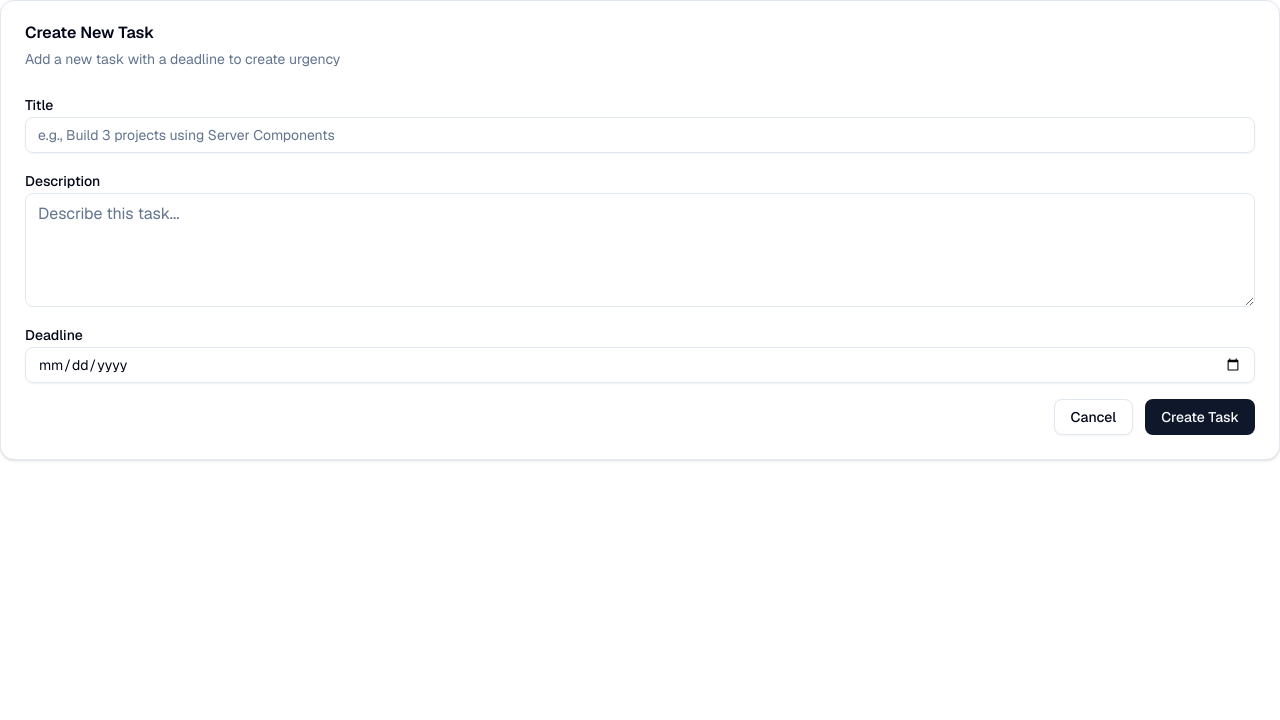
Test: TaskForm › Create mode › should display error when action fails
Type "Task" into the field labelled "Title" at (640, 135), box [25,117,1255,153]
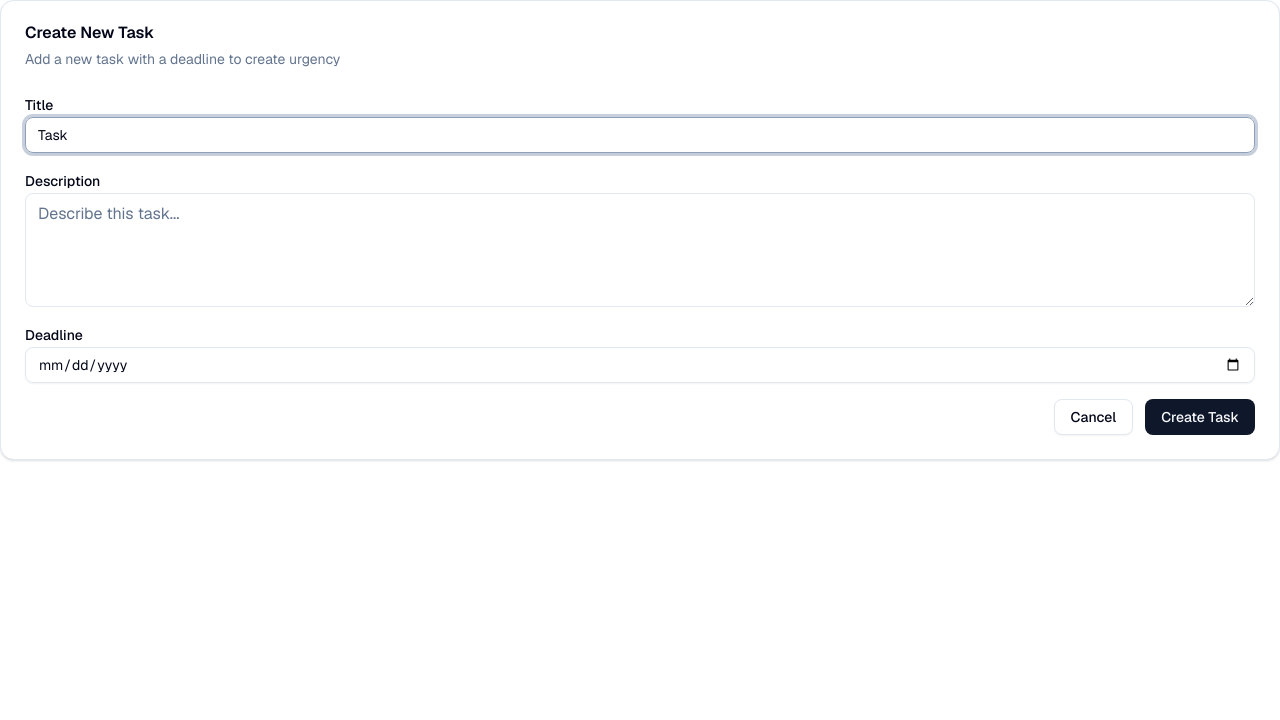
Type "Desc" into the text box labelled "Description" at (640, 250), box [25,193,1255,307]
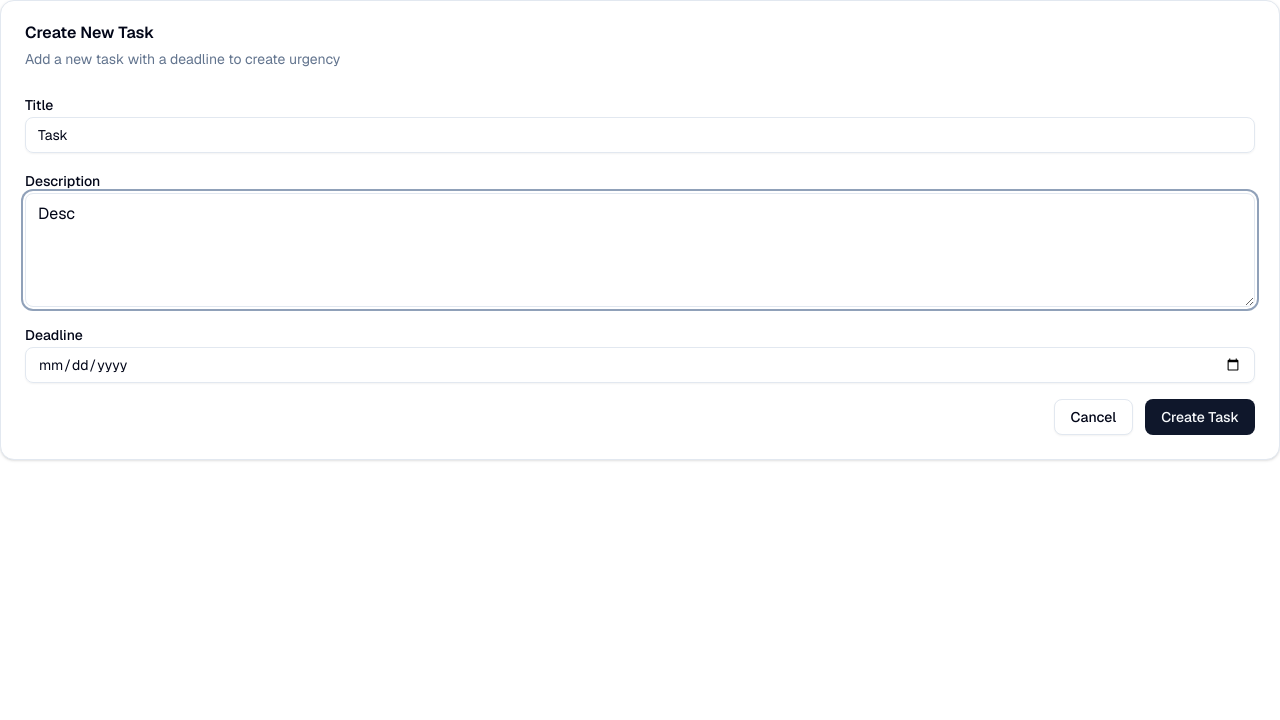
Type "2025-12-01" into the date field labelled "Deadline" at (640, 365), box [25,347,1255,383]
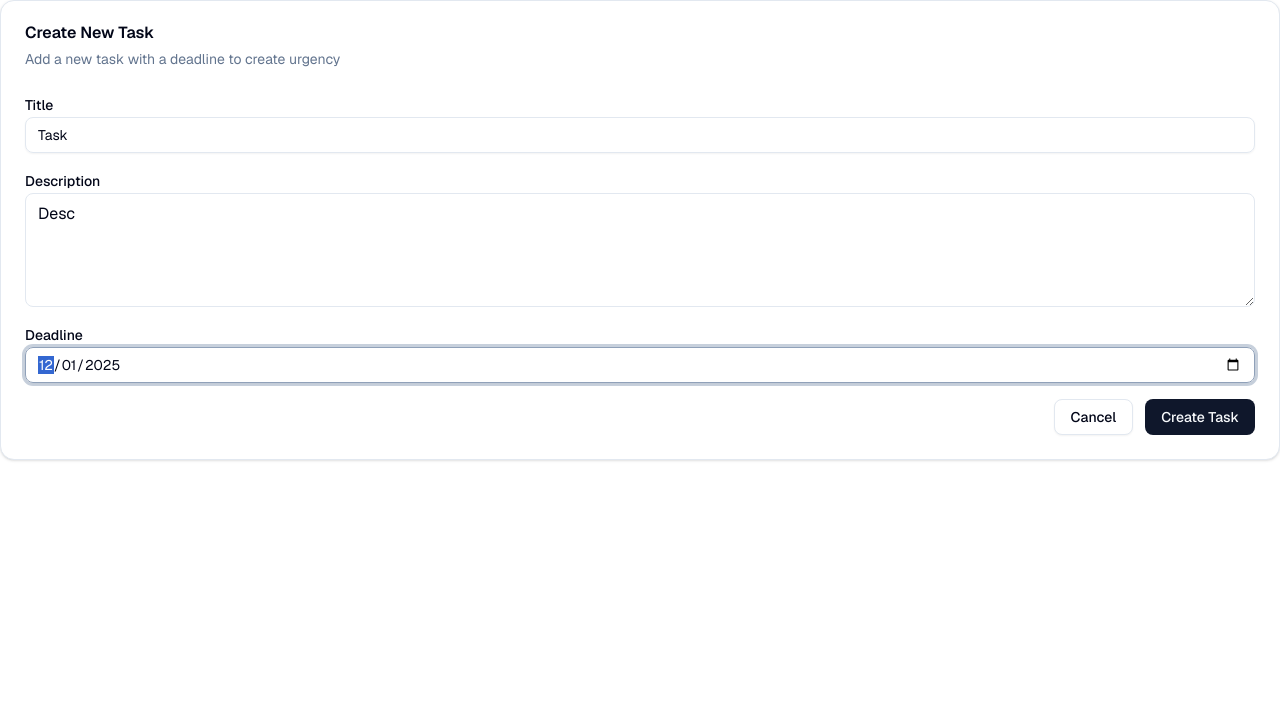
Click the button "Create Task" at (1200, 417), box [1145,399,1255,435]
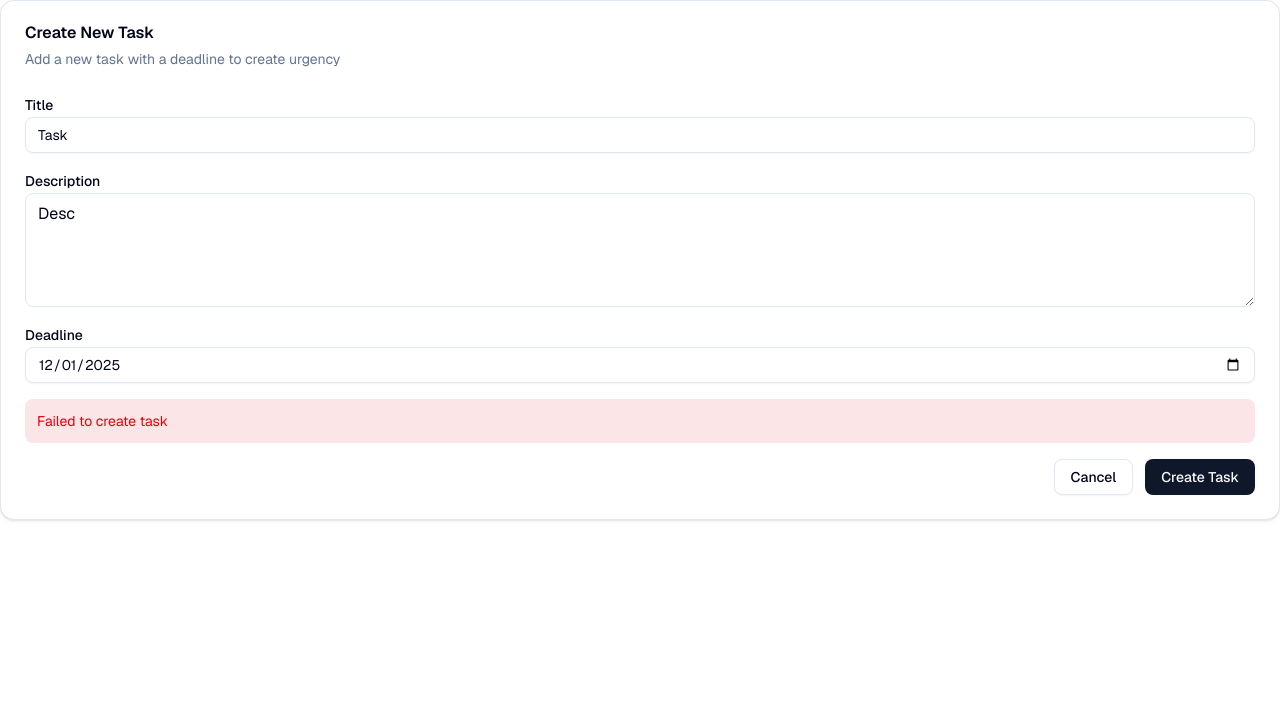
Result: the text "Failed to create task" is shown at [25,399,1255,443]
